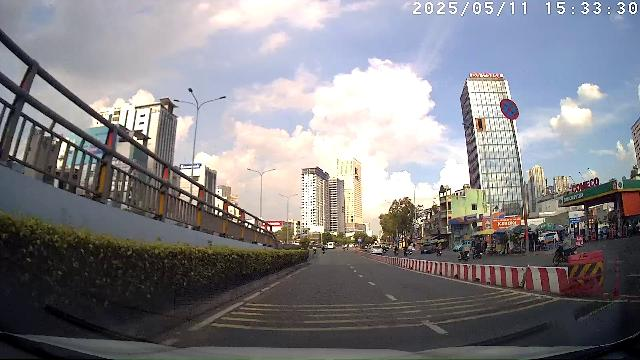130-cam-dung-va-do-xe: (500, 98, 520, 120)
